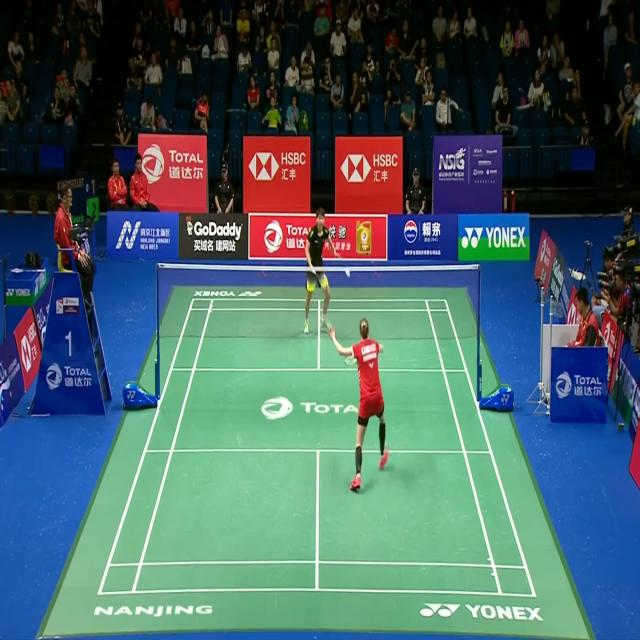Player1: (319, 311, 395, 502)
Player2: (300, 202, 346, 342)
